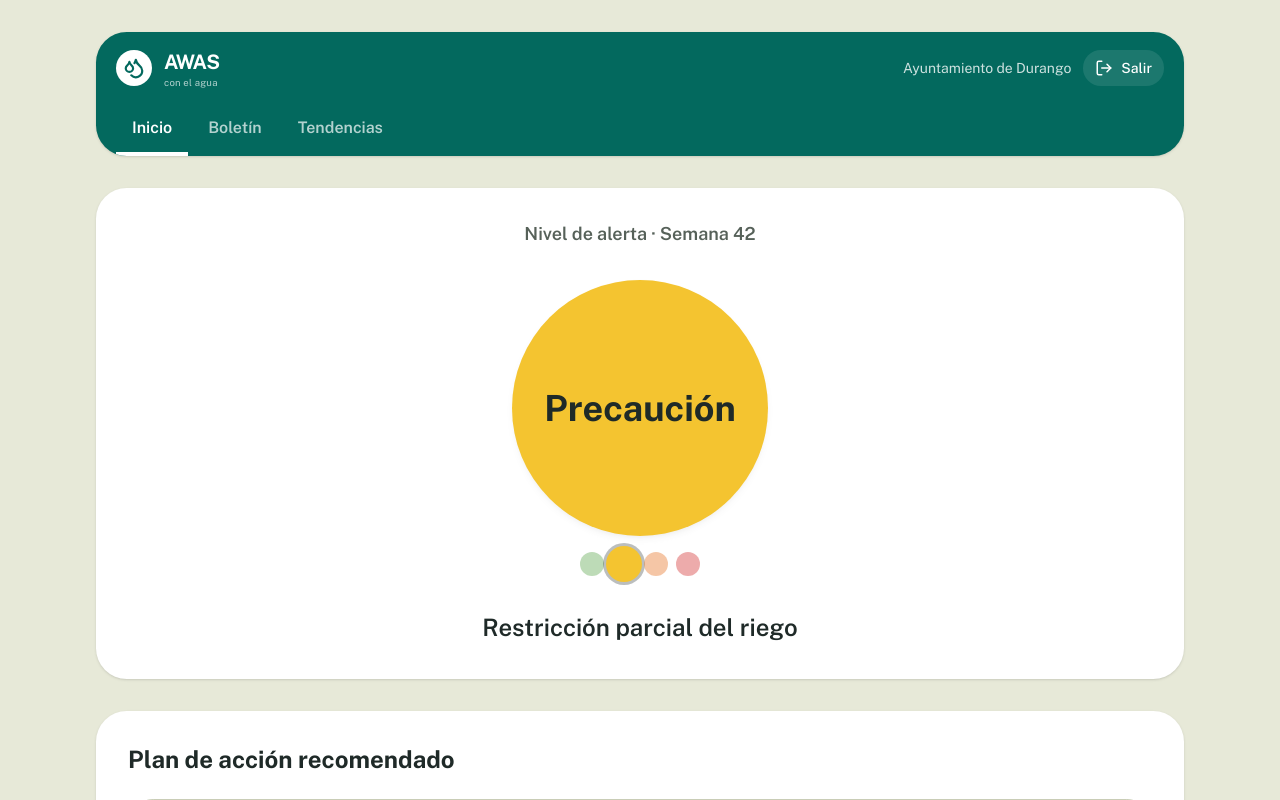
AyuntamientoDashboard › Boletín: solo lectura, no muestra el bloque de publicar
The width and height of the screenshot is (1280, 800).
Expected: the text "Nivel de alerta · Semana 42" is shown, x1=524 y1=220 x2=756 y2=248
Click the button "Boletín".
click(235, 130)  # box x1=192 y1=104 x2=278 y2=156
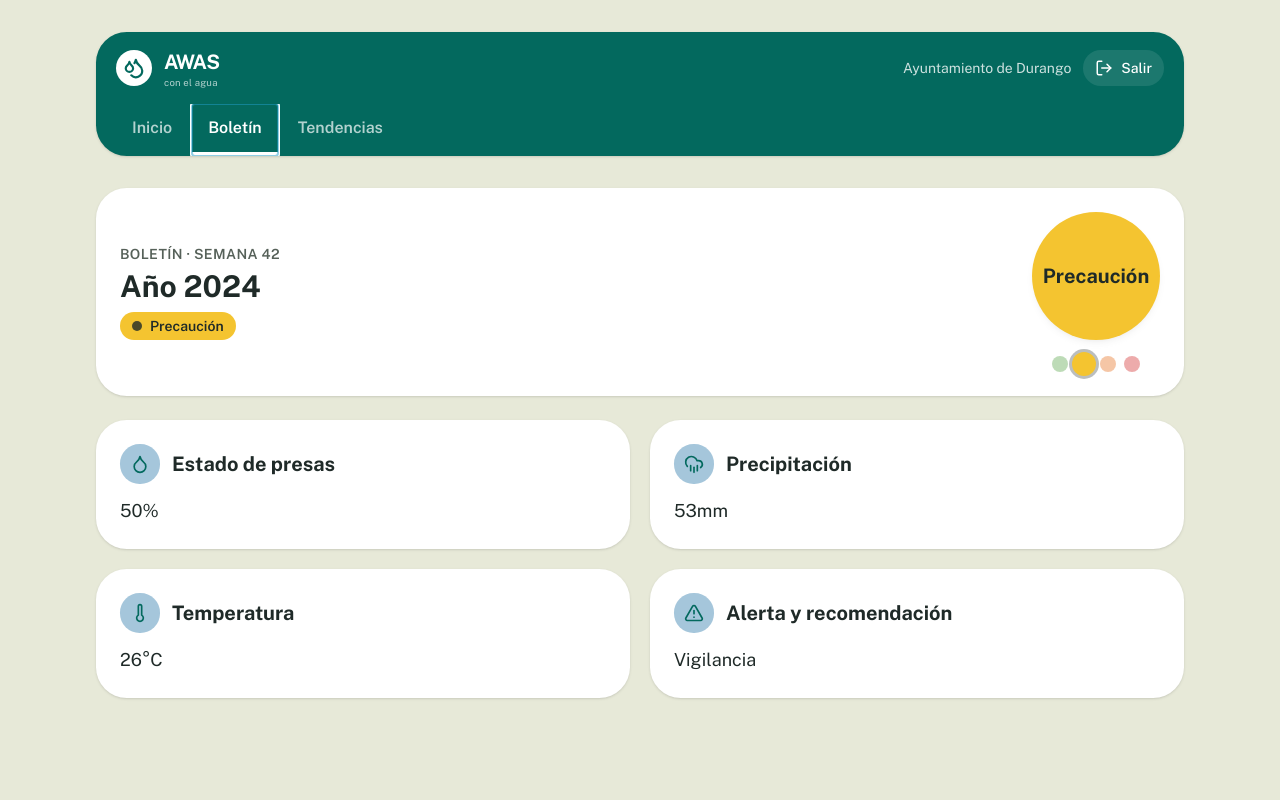
Expected: the heading "Estado de presas" is shown, x1=172 y1=450 x2=335 y2=478
